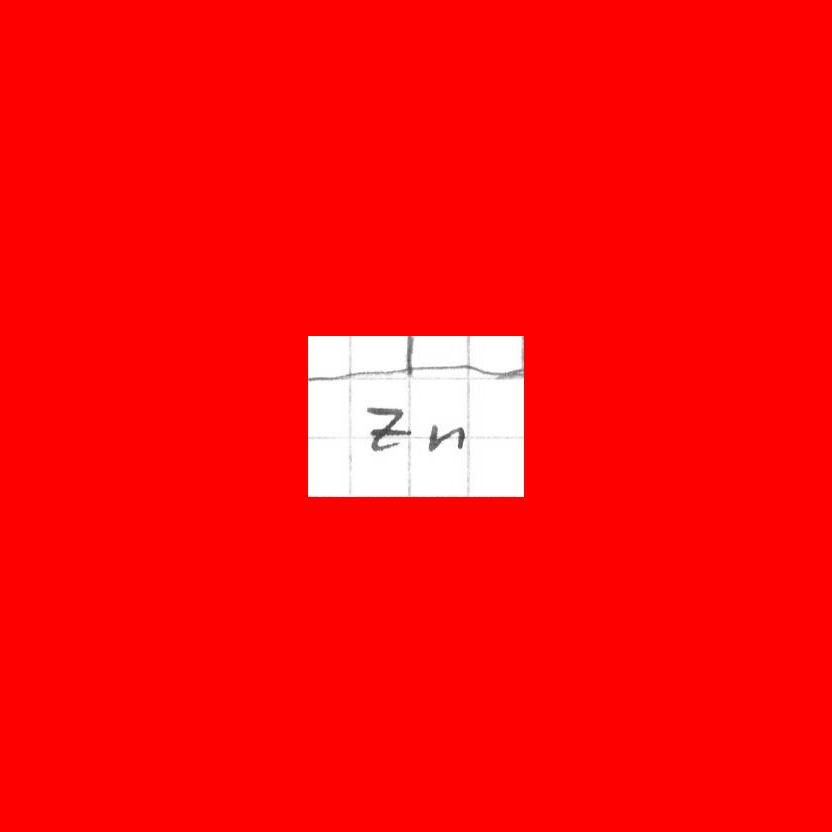Char: (364, 402, 410, 452), (425, 419, 467, 455)
